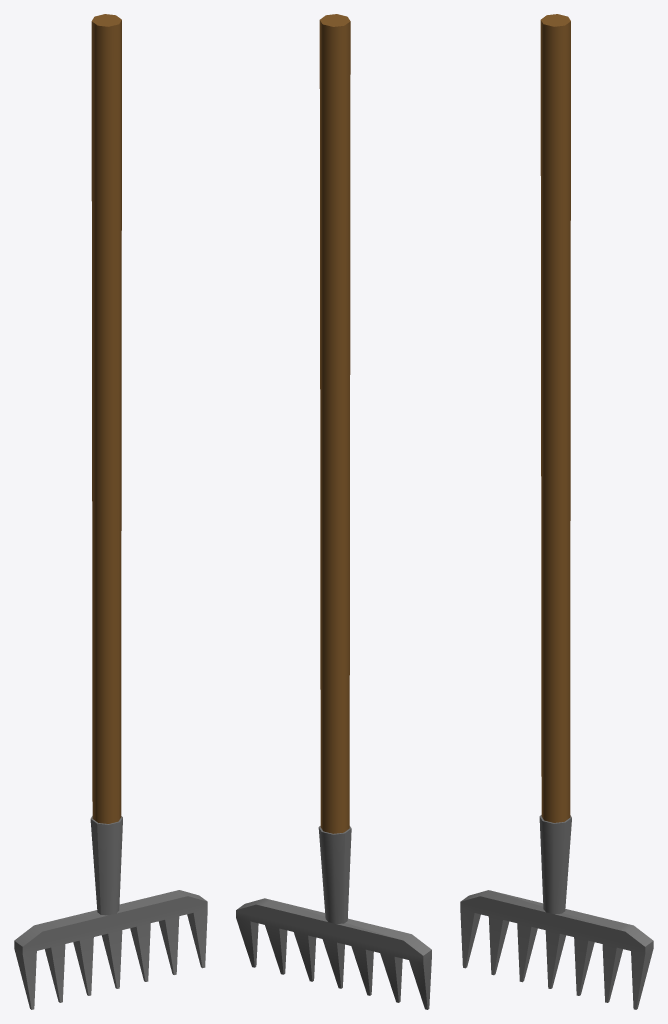
Rendered from Rakes.fbx.
3 renders of one model, left to right at view 1: azimuth 30°, elevation 25°; view 2: azimuth 150°, elevation 25°; view 3: azimuth 330°, elevation 25°, orthographic.
Parts seen in each view (by area): view 1: Rakes; view 2: Rakes; view 3: Rakes.
Part boxes in pixels (x1,y1,x2,y2): Rakes: (14, 14, 207, 1009); Rakes: (236, 14, 431, 1009); Rakes: (460, 14, 653, 1009).
Bounding box in the file's own units: 0.1257 × 0.6245 × 0.0194.
